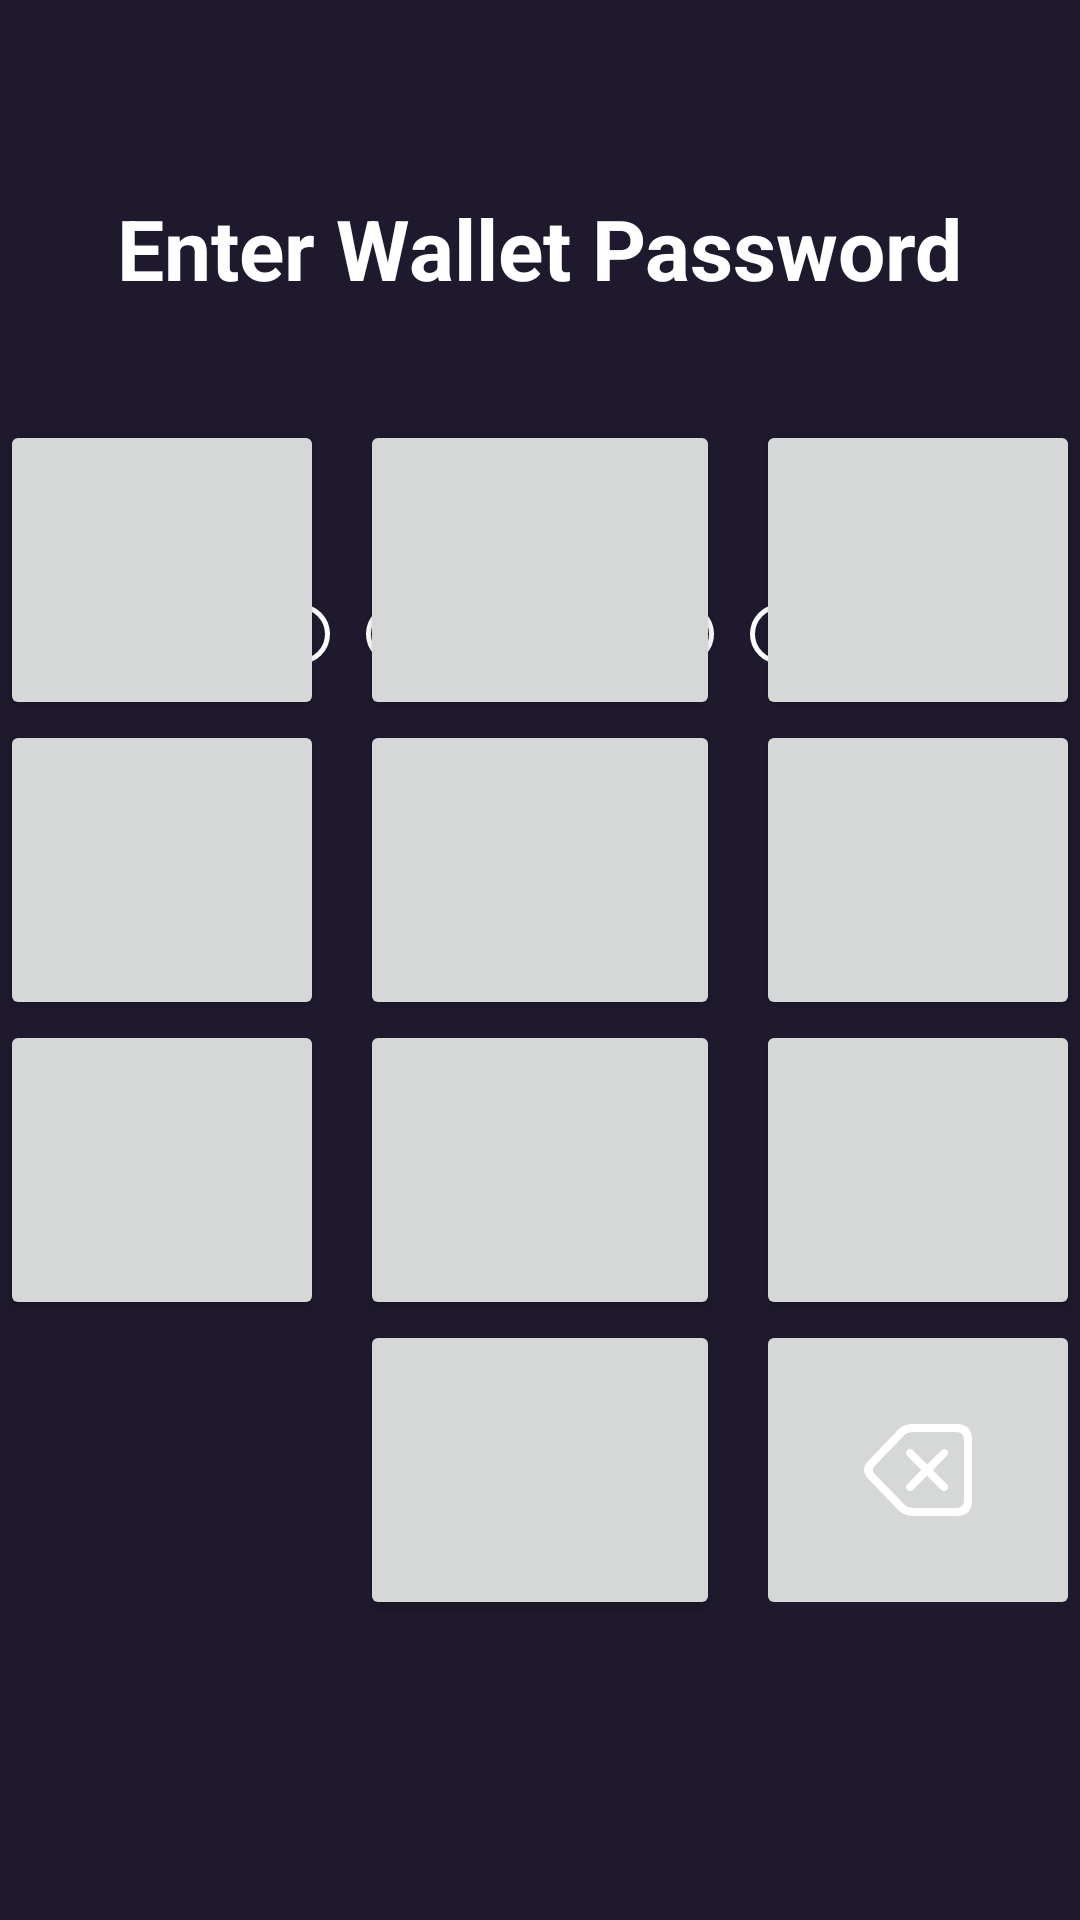

Icon click points for this 1080*1920 phone screenshot, format point (x, y):
delete key: point (918, 1470)
